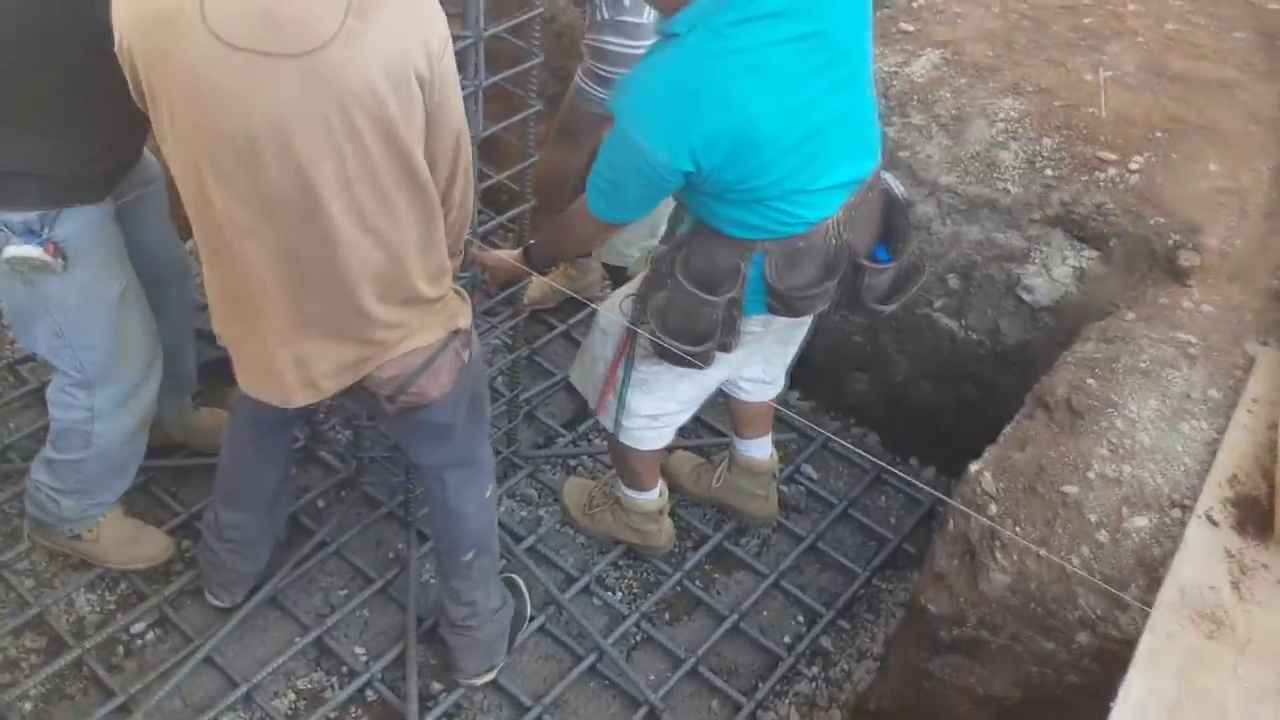person: (109, 0, 530, 695), (477, 0, 898, 554), (0, 0, 202, 595), (506, 0, 684, 312)
